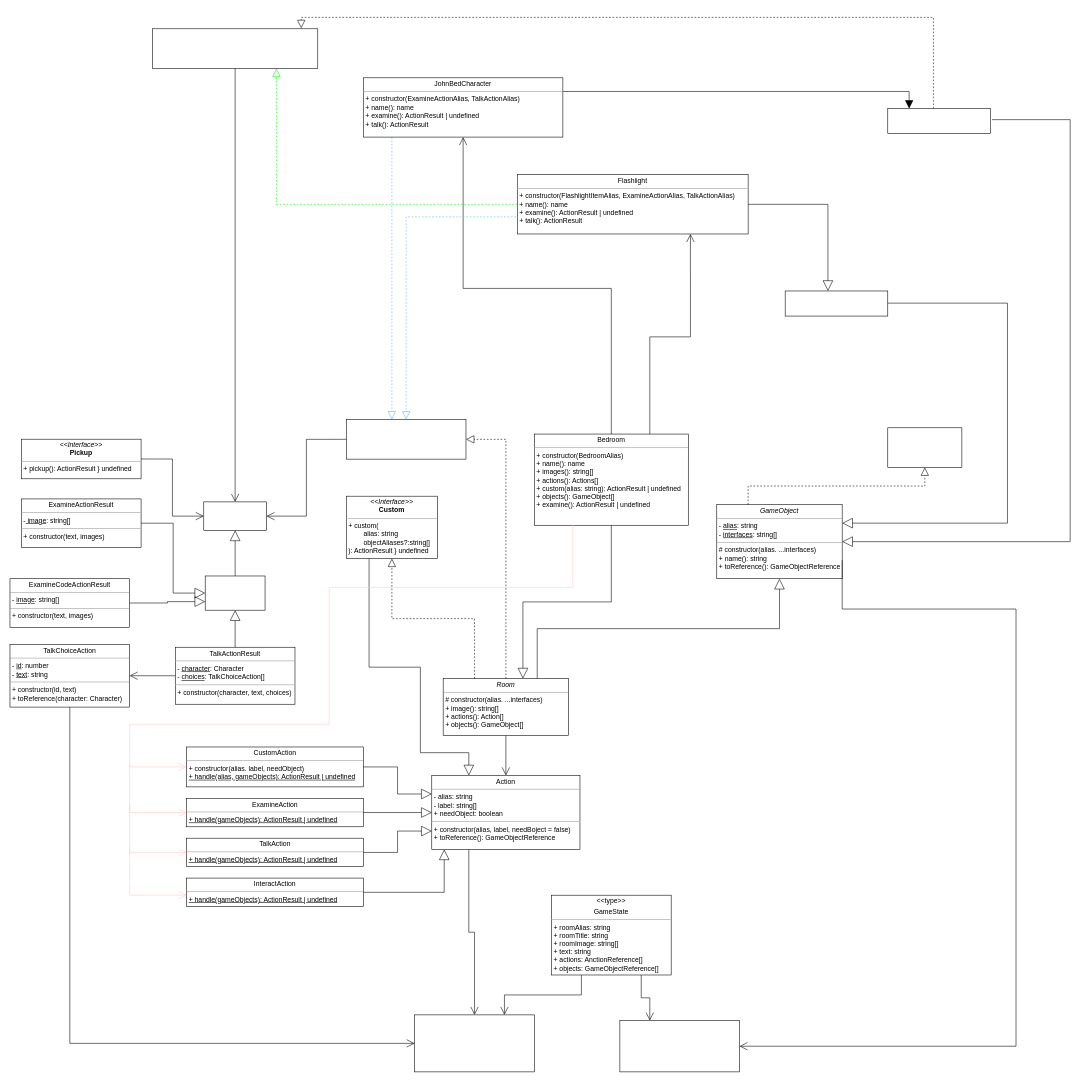
This 1090x1082 diagram has some shape labels left out. The centre of each missing label's shape, as x and y in pixels:
<<Interface>> Examine + examine(): ActionResult } undefined: the point at 406,439
<<Interface>> HasInterface + interfaces(): string[]: the point at 924,447
<<Interface>> Talk + talk(choiceId?: number): ActionResult } undefined: the point at 235,48
<<type>> ActionReference + alias: string + label: string + needObject: boolean: the point at 474,1043
<<type>> GameObjectsReference + alias: string + label: string: the point at 679,1046
ActionResult: the point at 234,515
Character # constructor(alias, ...interfaces): the point at 938,121
Item # constructor(alias, ...interfaces): the point at 836,303
TextActionResult - text : string[]: the point at 235,592
